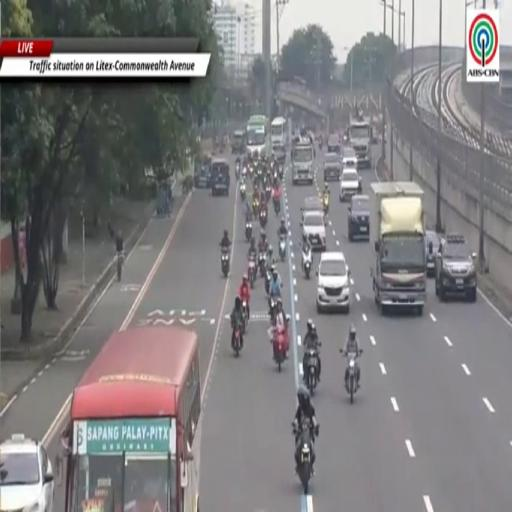bus: (65, 327, 200, 511), (270, 116, 288, 164), (246, 116, 267, 157), (271, 117, 287, 148), (246, 115, 267, 135)
car: (0, 435, 54, 511), (435, 234, 477, 301), (316, 252, 350, 313), (348, 196, 369, 242), (301, 212, 326, 250), (426, 231, 442, 277), (212, 158, 230, 196), (340, 168, 359, 201), (194, 156, 211, 188), (324, 153, 341, 182), (301, 197, 323, 219), (342, 147, 357, 168), (327, 134, 340, 154)
motorcycle: (293, 422, 314, 494), (342, 349, 362, 404), (273, 328, 288, 372), (304, 347, 318, 394), (233, 323, 242, 357), (303, 248, 312, 279), (221, 248, 230, 277), (116, 250, 124, 282), (248, 260, 256, 289), (268, 298, 276, 326), (242, 301, 248, 333), (259, 251, 266, 277), (279, 235, 286, 261), (259, 210, 267, 228), (273, 196, 280, 215), (265, 183, 272, 202), (246, 221, 252, 242), (240, 182, 246, 203), (323, 195, 329, 215), (265, 270, 270, 294), (253, 198, 259, 216), (241, 166, 247, 181), (273, 169, 279, 181), (236, 163, 240, 180), (358, 178, 362, 195), (248, 165, 253, 178), (279, 166, 283, 180)
truck: (370, 182, 426, 315), (348, 116, 372, 169), (291, 140, 314, 185), (246, 116, 267, 157)
